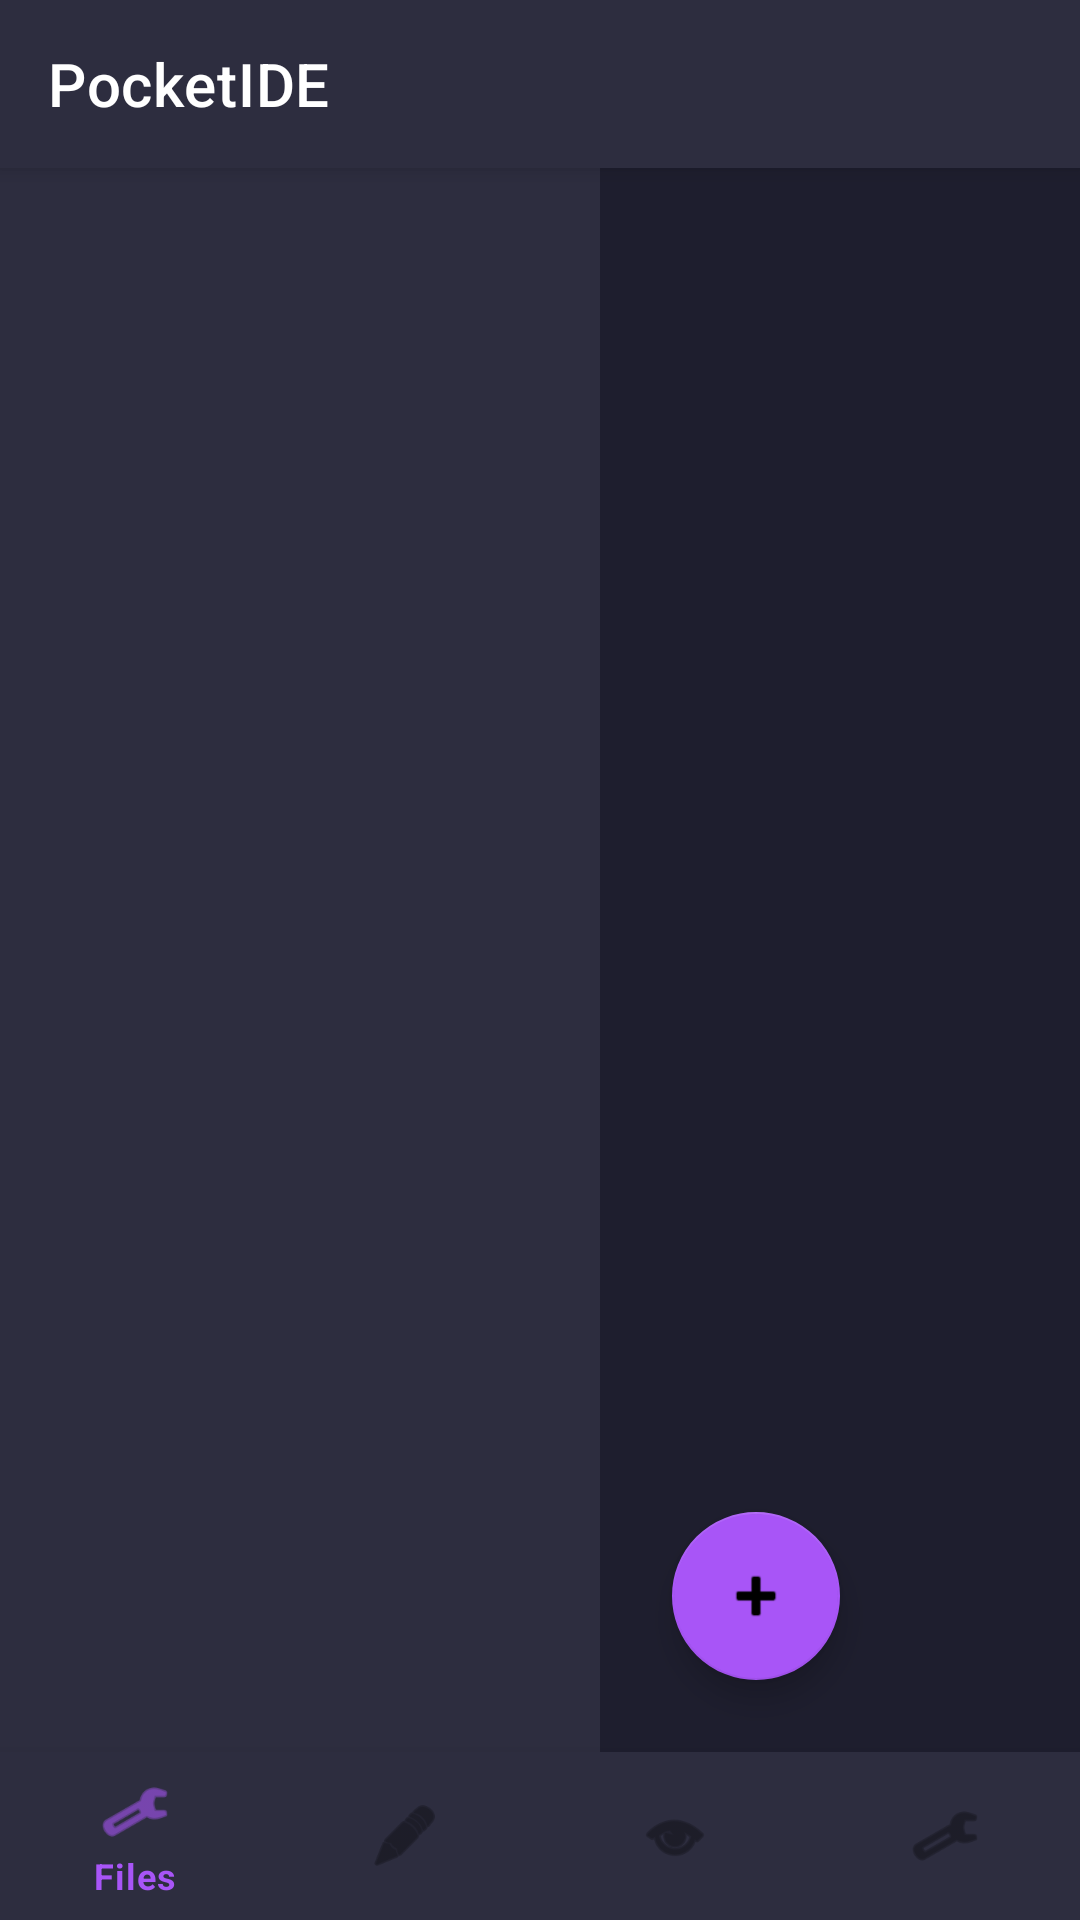

Icon click points for this 1080x1920 phone screenshot, format point (x, y):
add: point (756, 1596)
